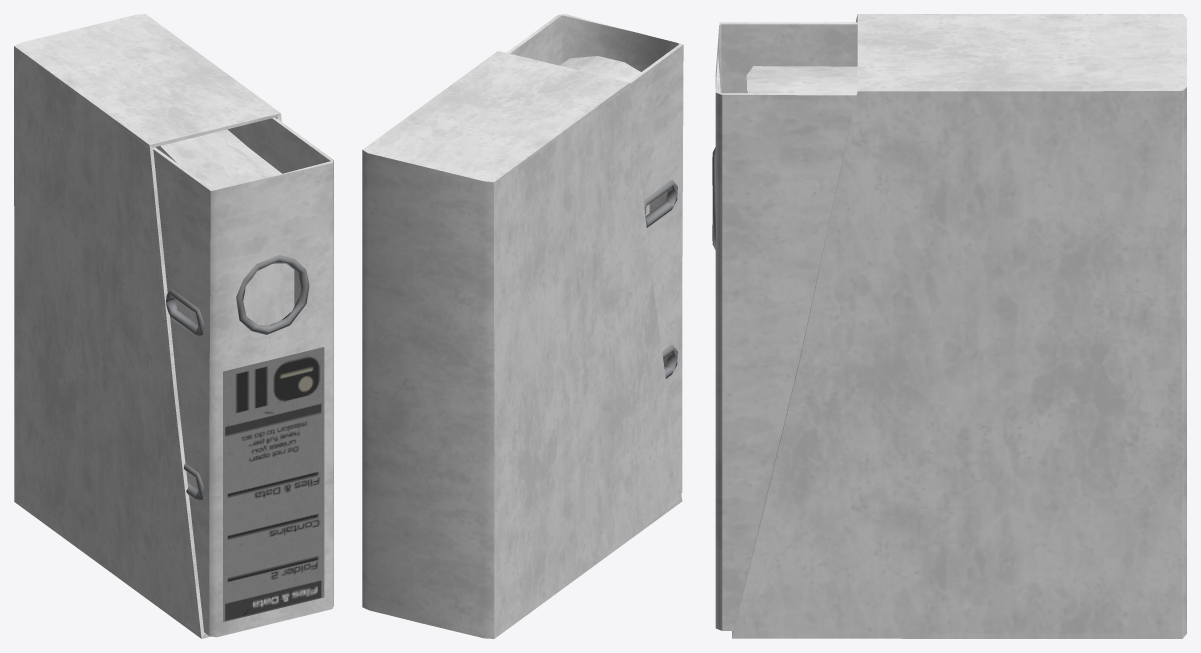
File: SM_Folder2.fbx
The picture shows the model from 3 angles, left to right: view 1: azimuth 30°, elevation 25°; view 2: azimuth 150°, elevation 25°; view 3: azimuth 270°, elevation 25°; orthographic projection. The views are drawn at different scales.
Parts seen in each view (by area): view 1: SM_Folder2_LOD0; view 2: SM_Folder2_LOD0; view 3: SM_Folder2_LOD0.
Boxes of the visible parts, bbox=[...] form: SM_Folder2_LOD0: bbox=[14, 14, 333, 638]; SM_Folder2_LOD0: bbox=[362, 14, 683, 638]; SM_Folder2_LOD0: bbox=[712, 14, 1186, 638].
Bounding box in the file's own units: 14.86 × 38.64 × 49.19.
1 material, 1 textured.
